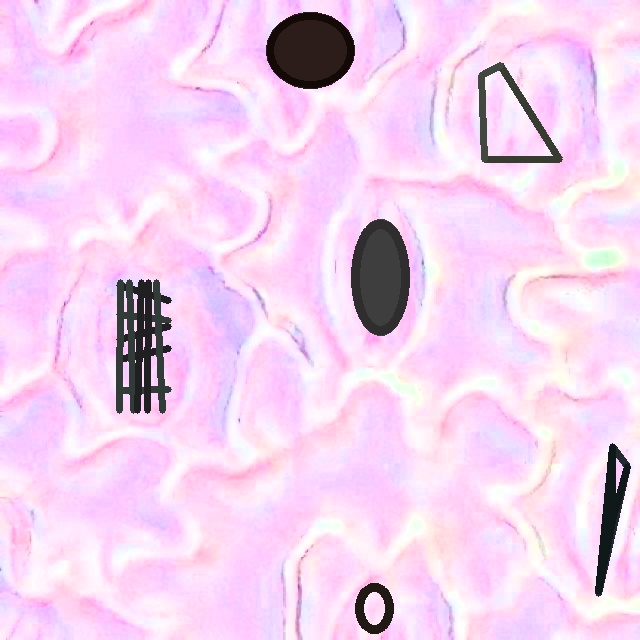open: (478, 62, 562, 162), (116, 279, 171, 413), (266, 12, 355, 88), (351, 219, 409, 335), (595, 443, 630, 596), (353, 583, 394, 634)
